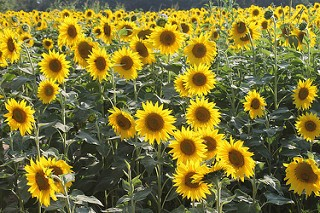flower: (134, 100, 178, 146), (214, 136, 256, 183), (170, 158, 214, 202), (166, 124, 209, 168), (22, 156, 59, 207), (281, 150, 320, 198), (183, 96, 222, 135), (1, 97, 37, 138), (183, 32, 219, 69), (146, 23, 186, 56), (182, 62, 218, 97), (37, 49, 71, 84), (109, 47, 143, 81), (105, 106, 136, 142), (85, 47, 112, 83), (290, 78, 319, 111), (57, 17, 86, 47), (0, 28, 24, 64), (241, 89, 268, 119), (294, 112, 320, 142), (36, 76, 61, 104)
